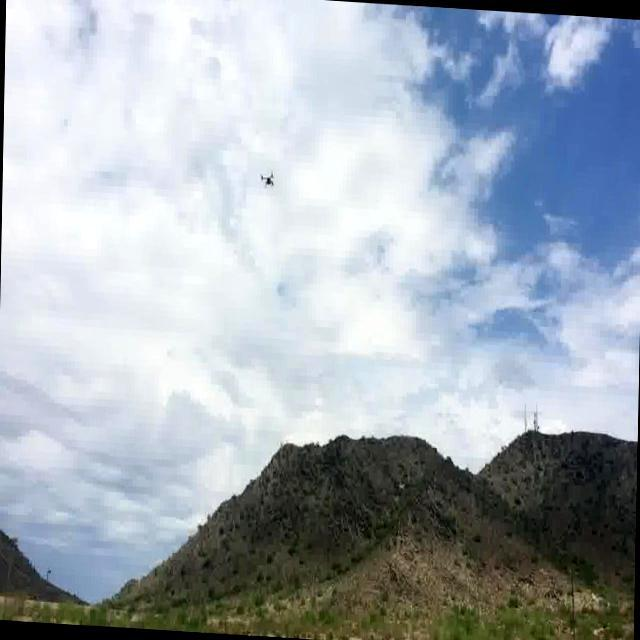drone: (256, 168, 280, 192)
